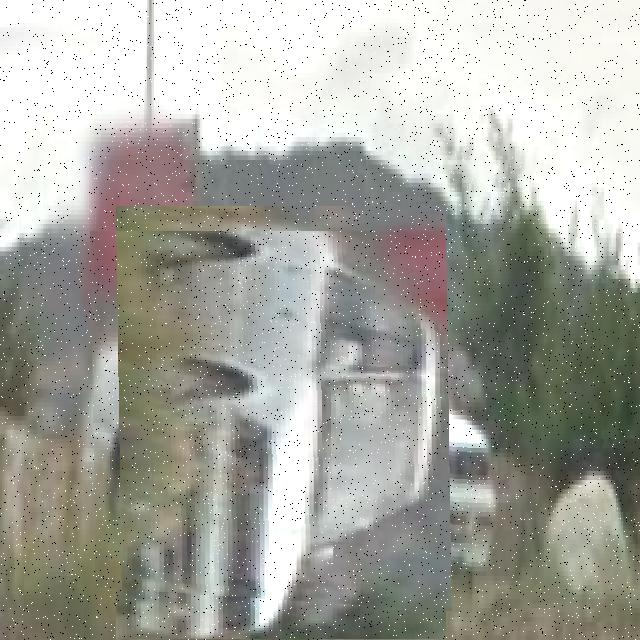car: (91, 232, 473, 614)
